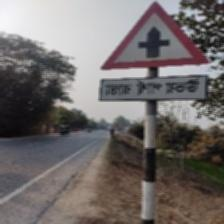Crossroad: (98, 0, 211, 106)
